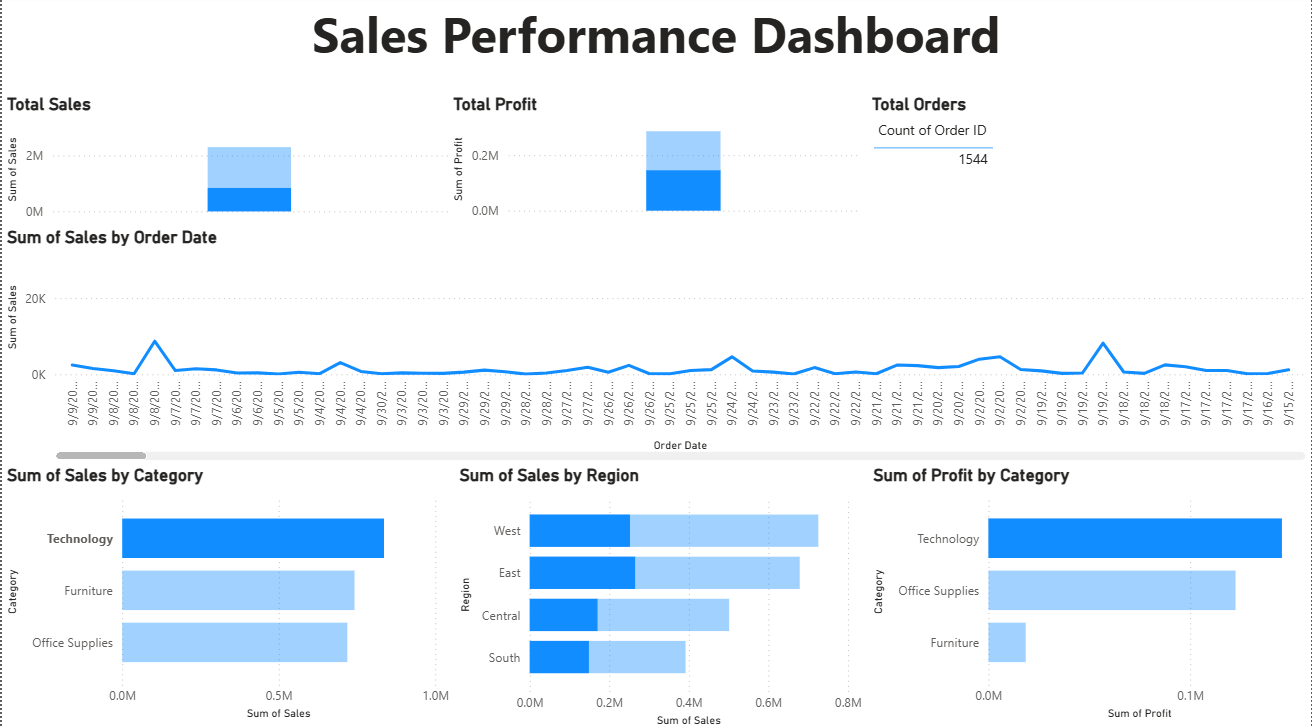

The page's visual inventory and layout, read from the dashboard file:
{"tool":"powerbi","page":{"name":"Page 1","canvas":[1280,720],"ordinal":0},"visuals":[{"type":"columnChart","title":"Total Sales","fields":{"Y":["Sum(Sample - Superstore.Sales)"]},"box":[0,96.4,443.1,129.2],"z":0},{"type":"clusteredColumnChart","title":"Total Profit","fields":{"Y":["Sum(Sample - Superstore.Profit)"]},"box":[436.5,96.4,409.7,128.5],"z":1000},{"type":"lineChart","fields":{"Category":["Sample - Superstore.Order Date"],"Y":["Sum(Sample - Superstore.Sales)"]},"box":[0,225.6,1280,233.8],"z":3000},{"type":"barChart","fields":{"Y":["Sum(Sample - Superstore.Sales)"],"Category":["Sample - Superstore.Category"]},"box":[0,459.5,443.1,254.4],"z":4000},{"type":"barChart","fields":{"Category":["Sample - Superstore.Region"],"Y":["Sum(Sample - Superstore.Sales)"]},"box":[443.1,459.5,404.1,260.5],"z":5000},{"type":"barChart","fields":{"Category":["Sample - Superstore.Category"],"Y":["Sum(Sample - Superstore.Profit)"]},"box":[847.2,459.5,432.8,254.4],"z":6000},{"type":"textbox","box":[0,0,1280,96.4],"z":7000},{"type":"tableEx","title":"Total Orders","fields":{"Values":["Sample - Superstore.Order ID"]},"box":[846.2,96.4,433.8,128.5],"z":7001}]}

Visuals, with their boxes in screenshot pixels (x1, y1, x2, y2), scaled from the page's 1280x720 canvas onto the 1312x728 screenshot:
"Total Sales" columnChart: (left=0, top=97, right=454, bottom=228)
"Total Profit" clusteredColumnChart: (left=447, top=97, right=867, bottom=227)
lineChart - Sample - Superstore.Order Date x Sum(Sample - Superstore.Sales): (left=0, top=228, right=1311, bottom=465)
barChart - Sum(Sample - Superstore.Sales) x Sample - Superstore.Category: (left=0, top=465, right=454, bottom=722)
barChart - Sample - Superstore.Region x Sum(Sample - Superstore.Sales): (left=454, top=465, right=868, bottom=727)
barChart - Sample - Superstore.Category x Sum(Sample - Superstore.Profit): (left=868, top=465, right=1311, bottom=722)
textbox: (left=0, top=0, right=1311, bottom=97)
"Total Orders" tableEx: (left=867, top=97, right=1311, bottom=227)
